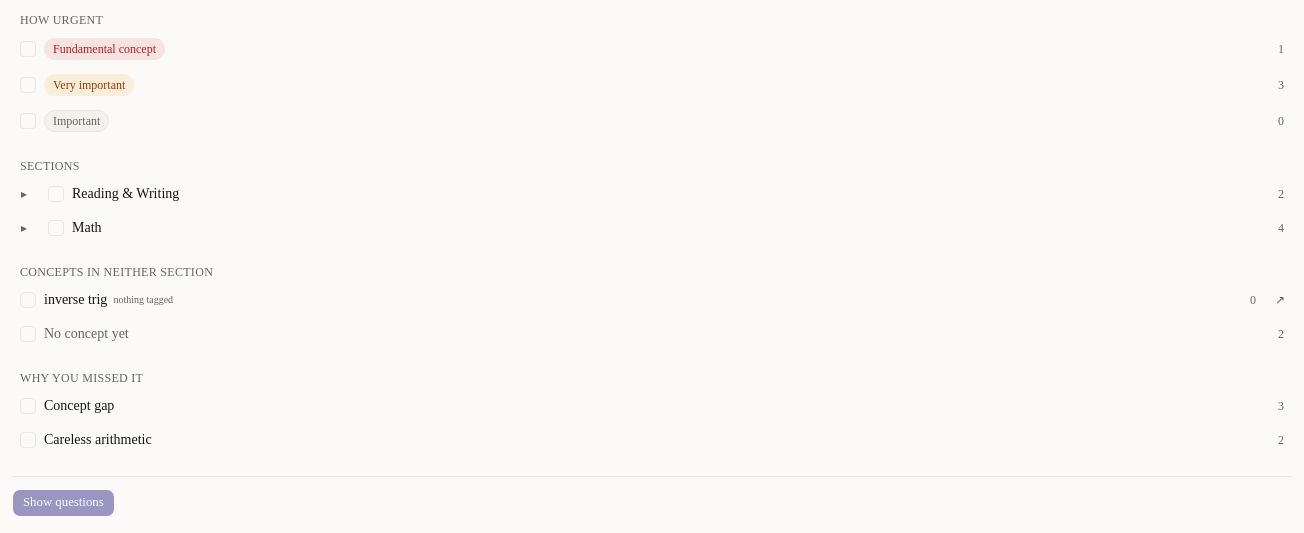
Categories › shows a selection as checked, and unchecks it again
The image size is (1304, 533).
Expected: the heading "How urgent" is shown, left=20, top=13, right=103, bottom=27
Click the checkbox labelled "Fundamental concept 1" at coordinates (104, 49), box left=12, top=32, right=1292, bottom=66
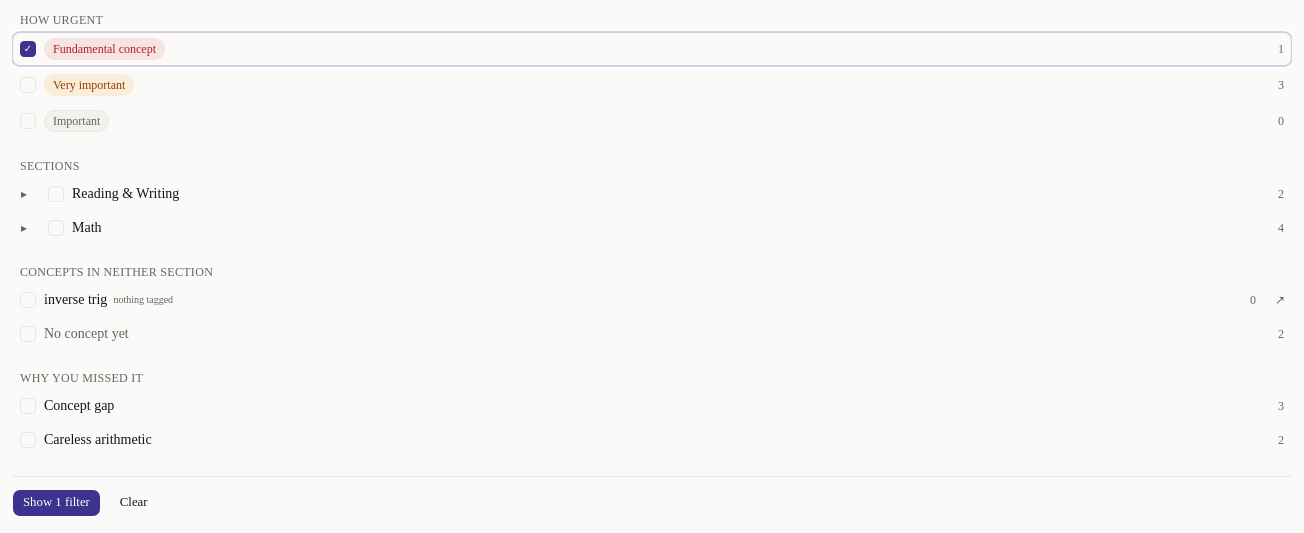
Expected: the checkbox labelled "✓ Fundamental concept 1" is checked
Click the checkbox labelled "✓ Fundamental concept 1" at coordinates (104, 49), box left=12, top=32, right=1292, bottom=66
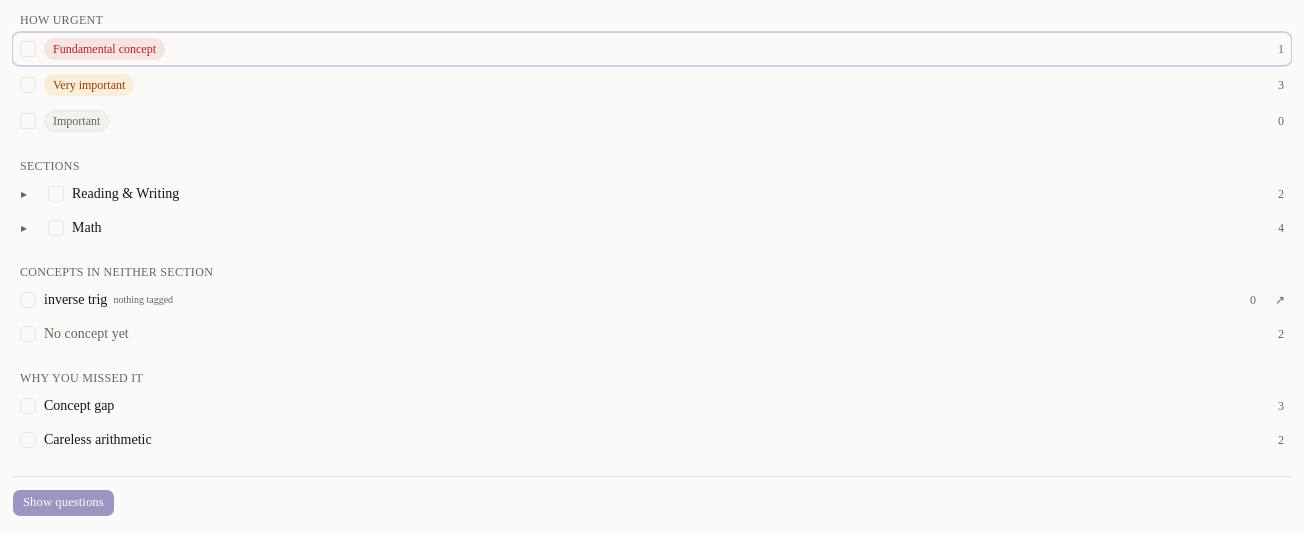
Expected: the checkbox labelled "Fundamental concept 1" is not checked, left=12, top=32, right=1292, bottom=66
